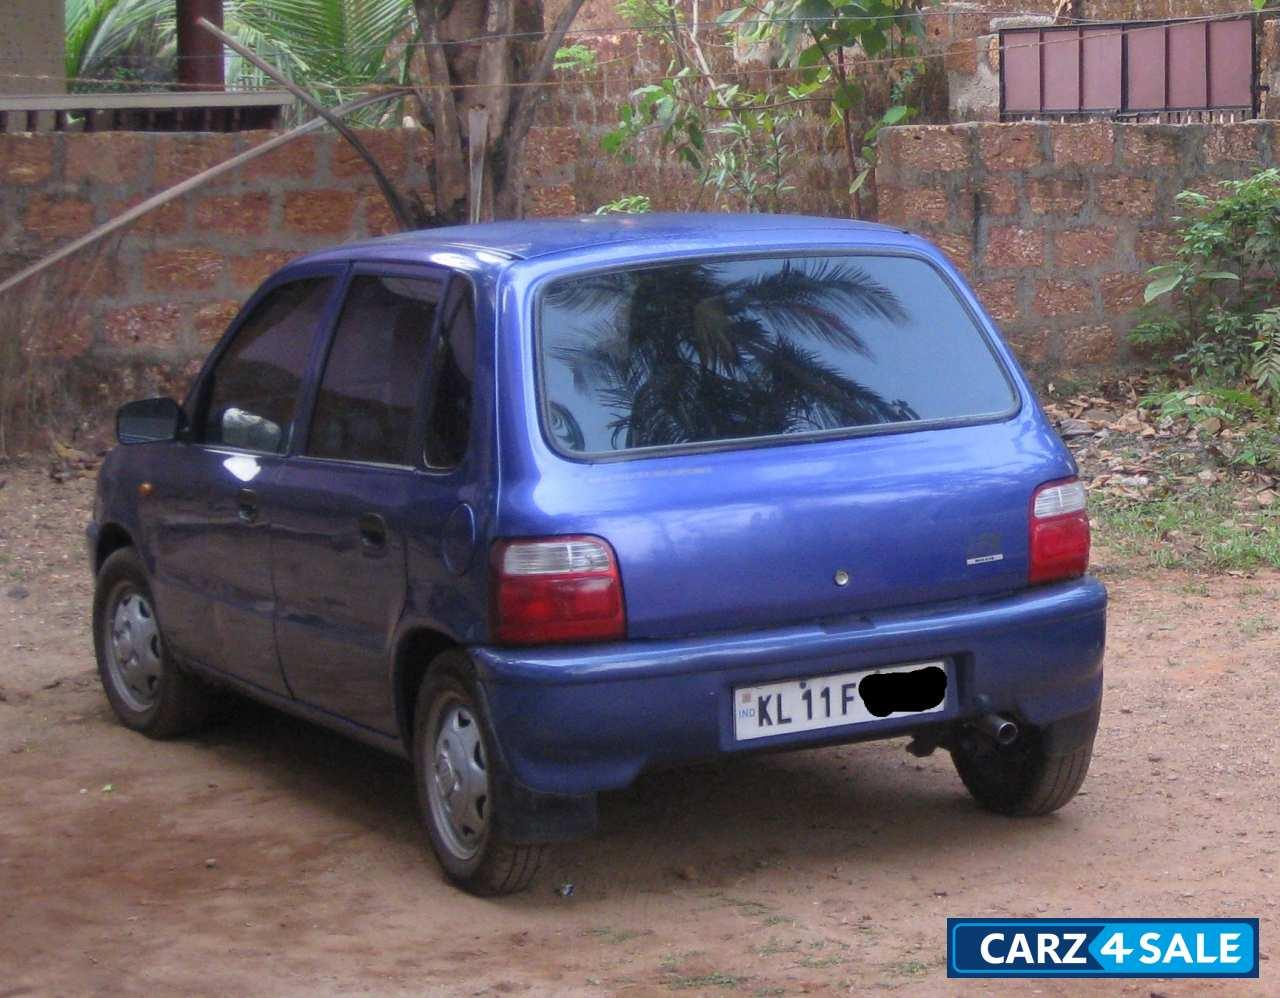car: (55, 226, 1192, 917)
